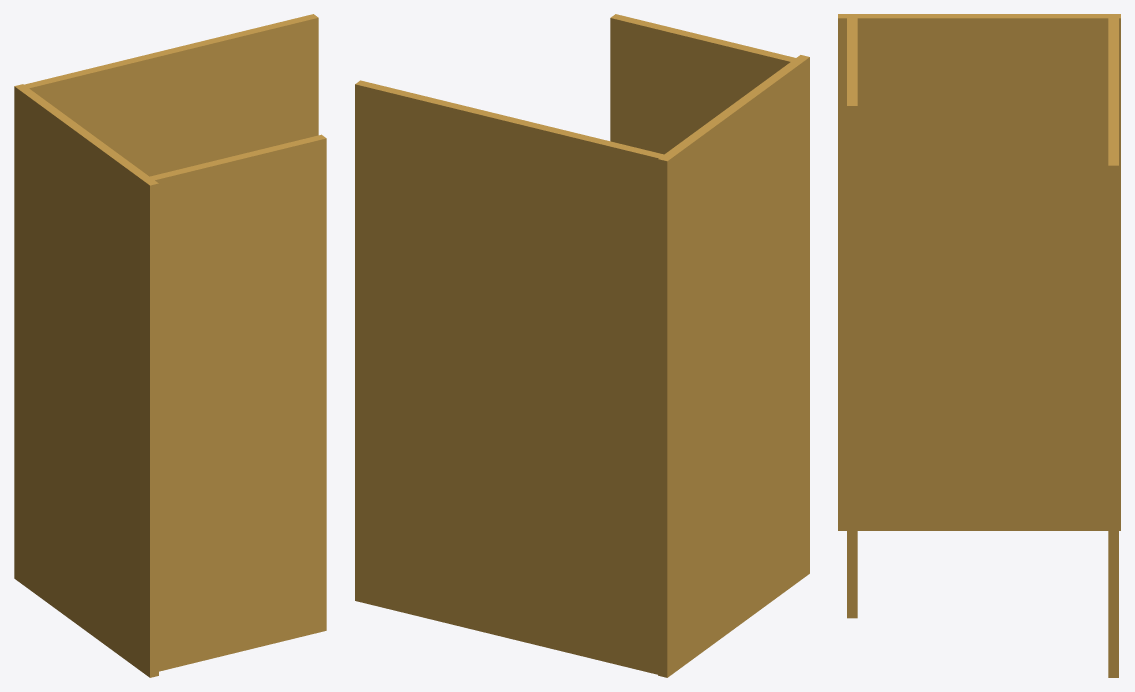
The model's file is display-flex.glb.
The picture shows the model from 3 angles, left to right: view 1: azimuth 30°, elevation 25°; view 2: azimuth 150°, elevation 25°; view 3: azimuth 270°, elevation 25°; orthographic projection. The views are drawn at different scales.
Visible parts, largest first — view 1: display-flex; view 2: display-flex; view 3: display-flex.
Part boxes in pixels (bbox=[...]): display-flex: bbox=[14, 14, 326, 677]; display-flex: bbox=[355, 14, 809, 677]; display-flex: bbox=[838, 14, 1120, 677].
Size of the model in its own units: 5.08 by 8 by 4.
